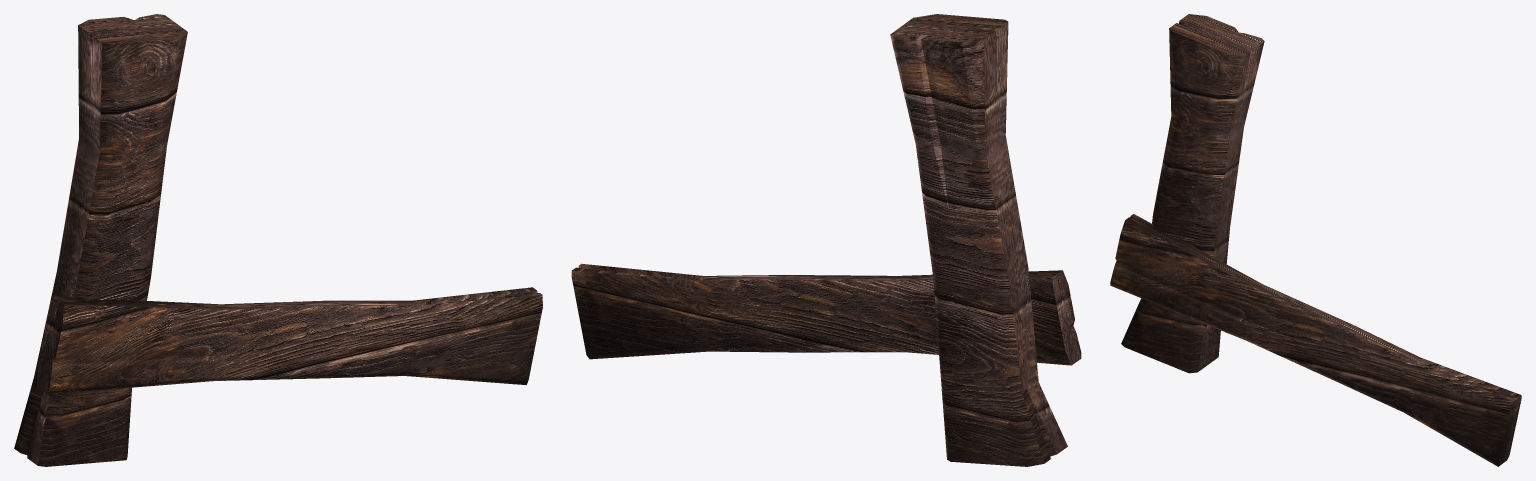
The model's file is CercaTres.fbx.
The picture shows the model from 3 angles, left to right: view 1: azimuth 30°, elevation 25°; view 2: azimuth 150°, elevation 25°; view 3: azimuth 330°, elevation 25°; orthographic projection. The views are drawn at different scales.
Visible parts, largest first — view 1: Cerca002; view 2: Cerca002; view 3: Cerca002.
Boxes of the visible parts, x1,y1,x2,y2 form: Cerca002: (14,14,542,466); Cerca002: (571,14,1081,466); Cerca002: (1110,14,1521,466).
Size of the model in its own units: 0.3308 by 0.2778 by 0.0502.
